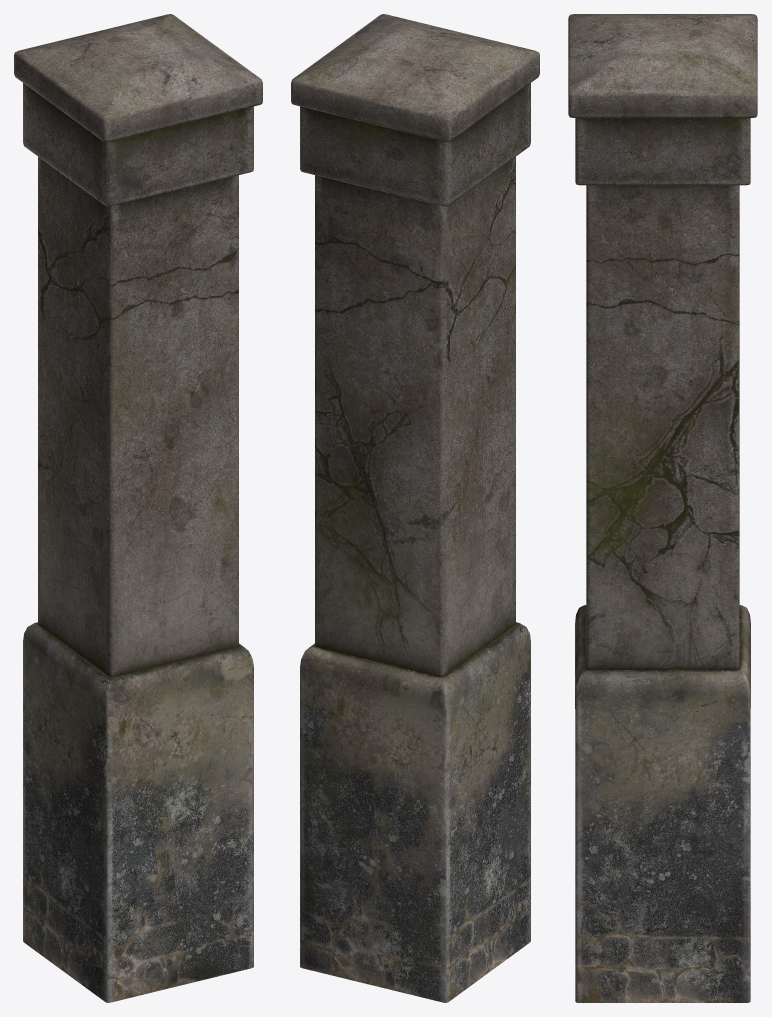
Rendered from SM_fence_34.fbx.
3 views of the same model, side by side, from view 1: azimuth 30°, elevation 25°; view 2: azimuth 150°, elevation 25°; view 3: azimuth 270°, elevation 25° (orthographic). The views are drawn at different scales.
Visible parts, largest first — view 1: SM_fence_34; view 2: SM_fence_34; view 3: SM_fence_34.
Part boxes in pixels (box(x1,y1,x2,y2)): SM_fence_34: box(14, 14, 262, 1002); SM_fence_34: box(291, 14, 539, 1002); SM_fence_34: box(568, 14, 757, 1002).
Bounding box in the file's own units: 57.78 × 313 × 57.78.
